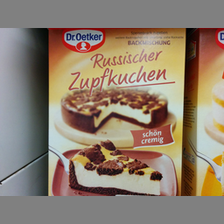cake: (48, 27, 186, 196)
